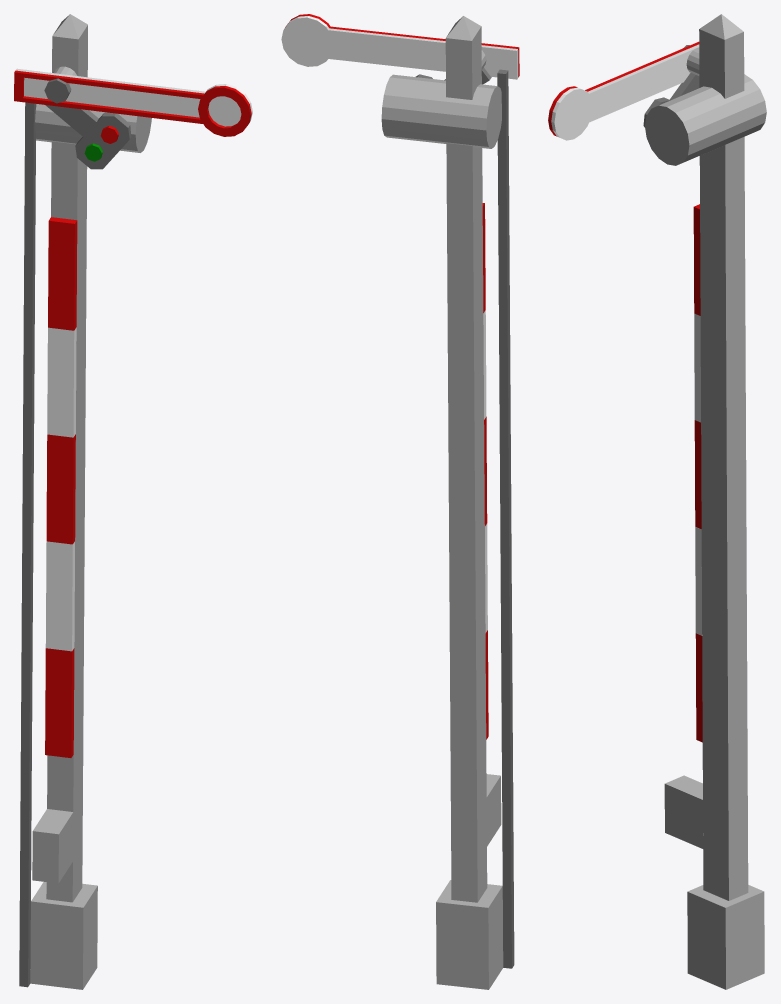
File: GMLID_3313190_307178_612.gltf
3 views of the same model, side by side, from view 1: azimuth 30°, elevation 25°; view 2: azimuth 210°, elevation 25°; view 3: azimuth 270°, elevation 25° (orthographic).
Parts seen in each view (by area): view 1: Z_UP; view 2: Z_UP; view 3: Z_UP.
Boxes of the visible parts, x1=… form: Z_UP: x1=14, y1=14, x2=252, y2=989; Z_UP: x1=281, y1=14, x2=519, y2=989; Z_UP: x1=548, y1=14, x2=766, y2=989.
Size of the model in its own units: 2.38 by 14.04 by 2.9.
